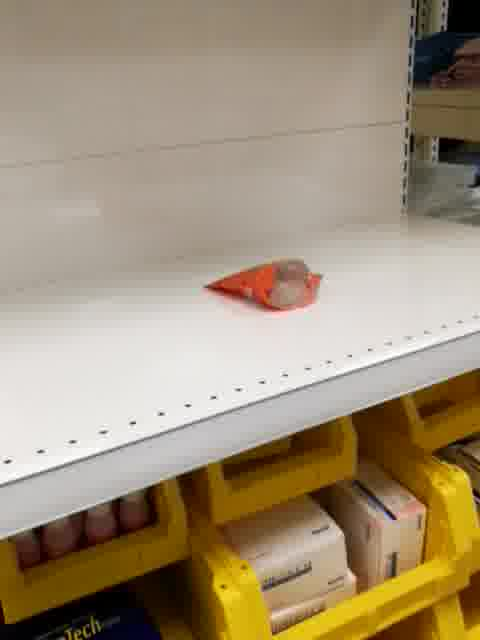whitechia: (202, 255, 325, 313)
